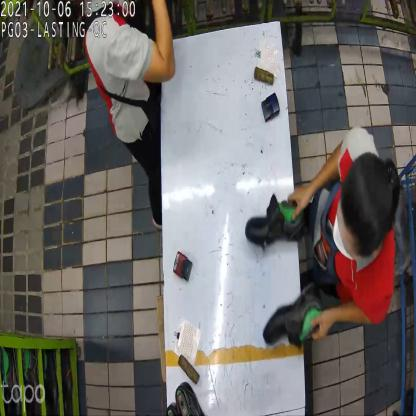shoes: (245, 190, 326, 348)
stamp: (172, 250, 194, 283), (260, 91, 280, 126)
